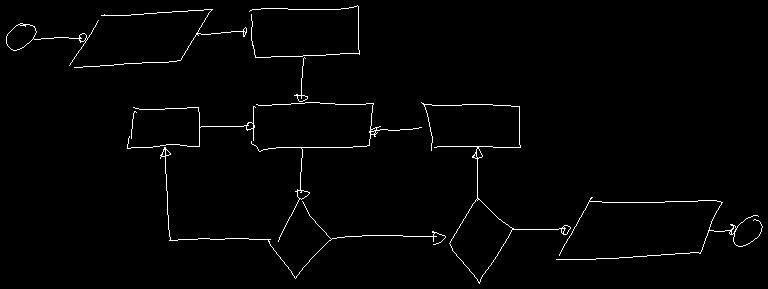arrow: (160, 147, 270, 240), (332, 231, 445, 244), (295, 147, 309, 199), (294, 57, 307, 101), (472, 146, 482, 198), (369, 126, 421, 136), (513, 225, 570, 234), (34, 33, 86, 42), (196, 27, 246, 36), (200, 122, 254, 130), (708, 224, 736, 234)
connection: (733, 215, 762, 246), (6, 23, 36, 50)
data: (556, 197, 722, 259), (69, 9, 212, 67)
decision: (449, 198, 513, 283), (268, 199, 331, 278)
process: (251, 102, 373, 151), (249, 5, 359, 57), (421, 102, 520, 150), (127, 107, 199, 148)
